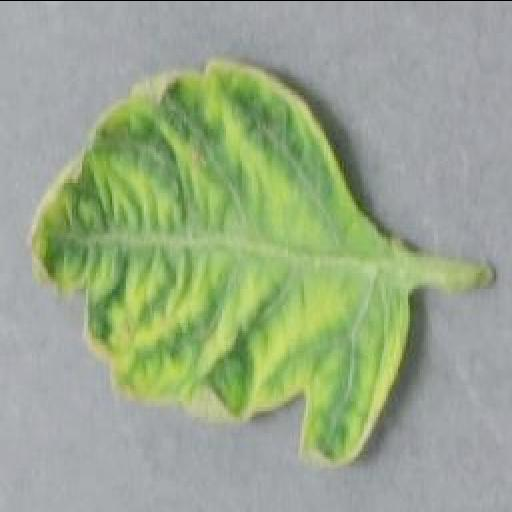disease_tomato: (26, 53, 412, 461)
